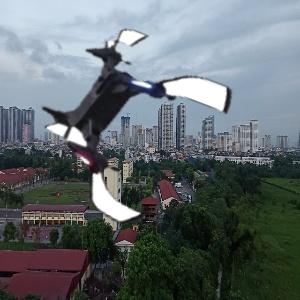drone: (31, 31, 227, 227)
